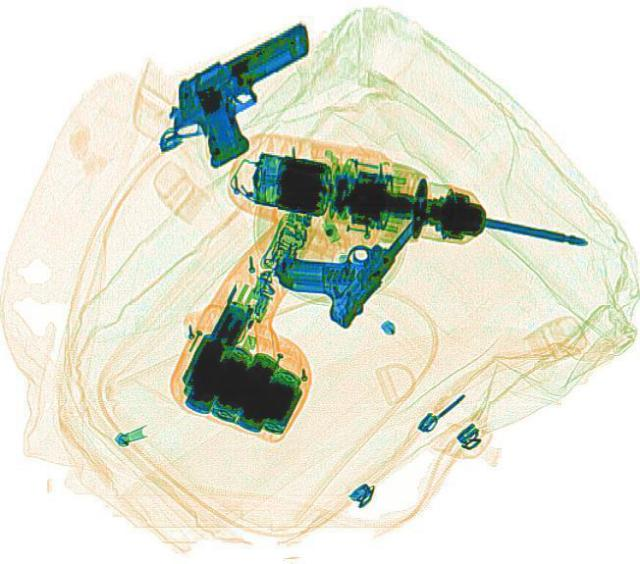Gun: (136, 17, 358, 174), (258, 170, 430, 328)
